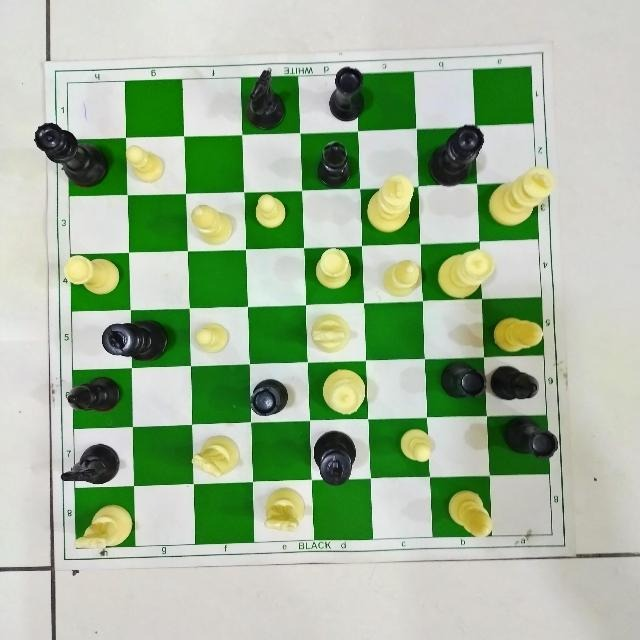black-bishop: (65, 373, 124, 417), (488, 365, 543, 403), (315, 139, 354, 187)
black-king: (101, 318, 171, 364), (310, 426, 359, 487)
black-knight: (59, 441, 123, 489), (245, 67, 289, 131)
black-queen: (31, 120, 108, 191), (428, 123, 485, 189)
black-rook: (501, 413, 560, 463), (327, 64, 369, 123), (438, 358, 487, 406), (246, 376, 289, 419)
white-bishop: (443, 482, 495, 539), (490, 312, 545, 356), (188, 202, 234, 247), (381, 254, 425, 297)
white-king: (488, 164, 554, 224), (365, 172, 414, 234)
white-knight: (72, 502, 135, 554), (191, 433, 243, 480), (259, 486, 309, 534), (310, 312, 352, 354)
white-pawn: (123, 144, 167, 182), (251, 192, 289, 234), (399, 425, 435, 466), (194, 319, 230, 355)
white-queen: (435, 243, 496, 306), (320, 366, 367, 418)
white-rook: (63, 253, 121, 298), (314, 244, 353, 292)
